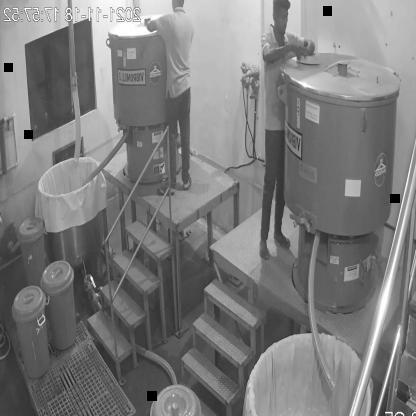no_shoes: (272, 229, 292, 252), (256, 240, 271, 262), (182, 174, 194, 192)
